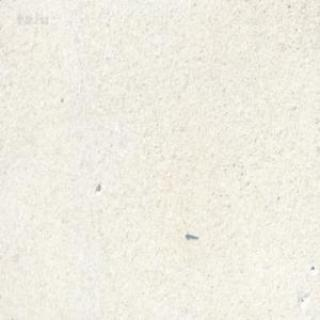Nailtrack_idkeyframe: (184, 229, 198, 238)
